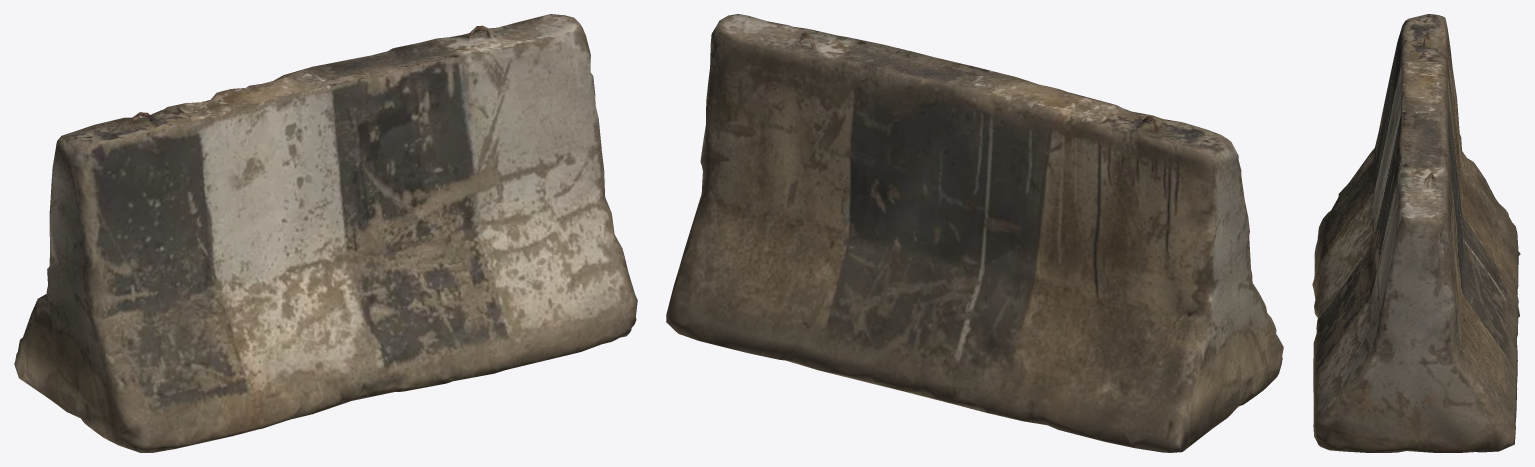
File: concrete_road_barrier.glb
3 renders of one model, left to right at view 1: azimuth 30°, elevation 25°; view 2: azimuth 150°, elevation 25°; view 3: azimuth 270°, elevation 25°, orthographic. The views are drawn at different scales.
Parts seen in each view (by area): view 1: concrete_road_barrier; view 2: concrete_road_barrier; view 3: concrete_road_barrier.
Boxes of the visible parts, x1=… form: concrete_road_barrier: x1=14, y1=14, x2=637, y2=452; concrete_road_barrier: x1=666, y1=14, x2=1283, y2=452; concrete_road_barrier: x1=1312, y1=14, x2=1520, y2=452.
Bounding box in the file's own units: 1.54 × 0.8304 × 0.6387.
Materials: 1 (1 with a texture image).
